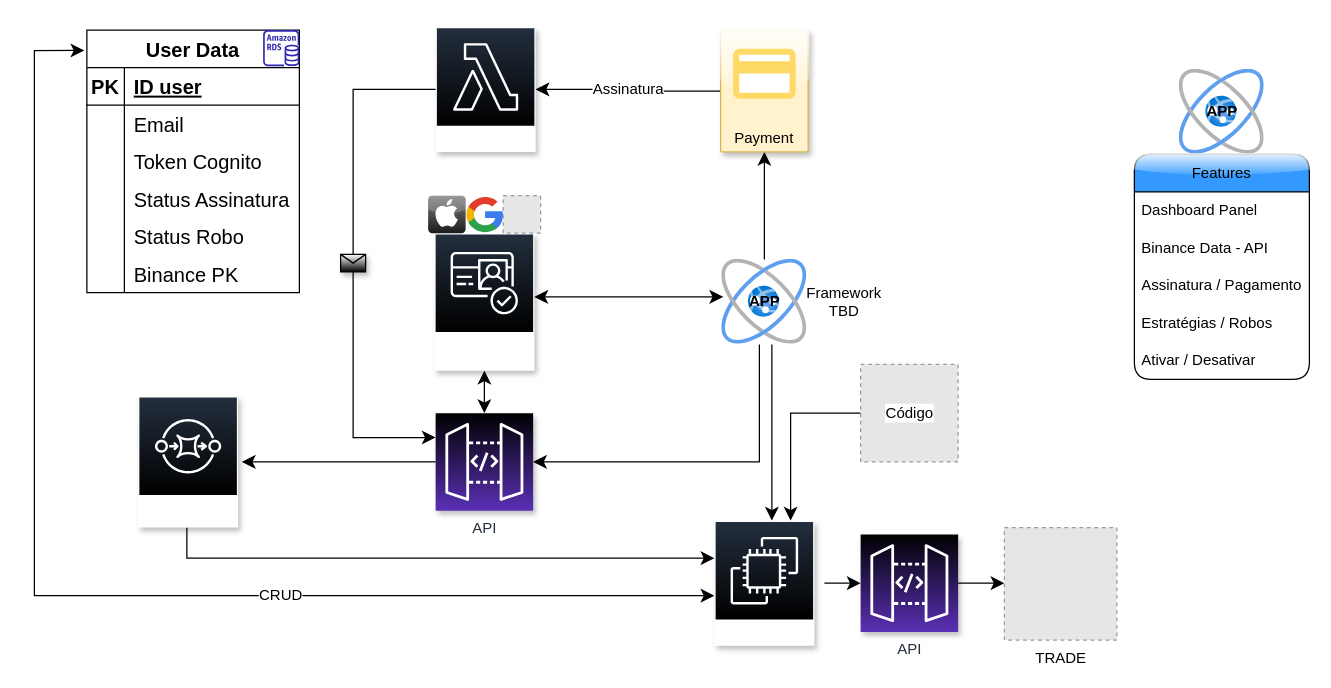
Some shapes in this 1331 by 688 pixel diagram are drawn without their labels. Grey dashed boxes stand in for pictures. Here are the shapes that lost their labels. From the top down, the centre of each, then its label:
At point (486, 91): "AWS Lambda".
At point (485, 303): "Amazon Cognito".
At point (189, 463): "Amazon SQS".
At point (765, 584): "Amazon EC2".
